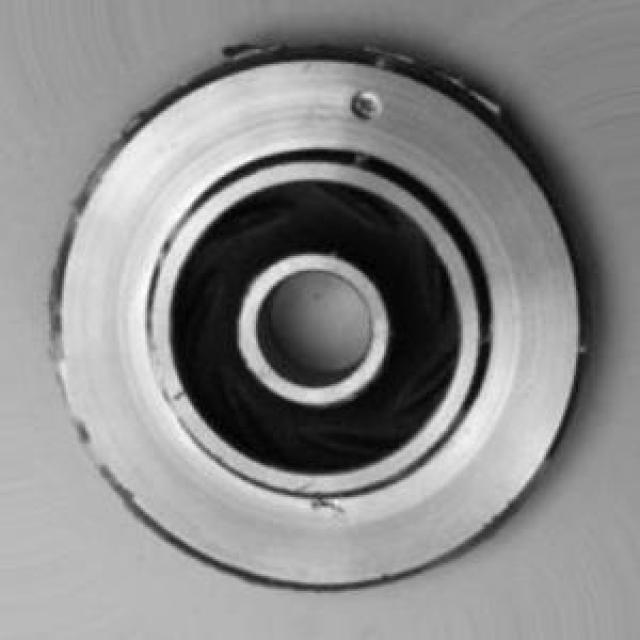Defect: (344, 89, 386, 130)
